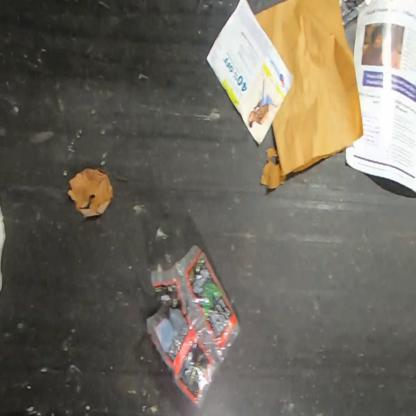soft_plastic: (146, 244, 242, 410)
